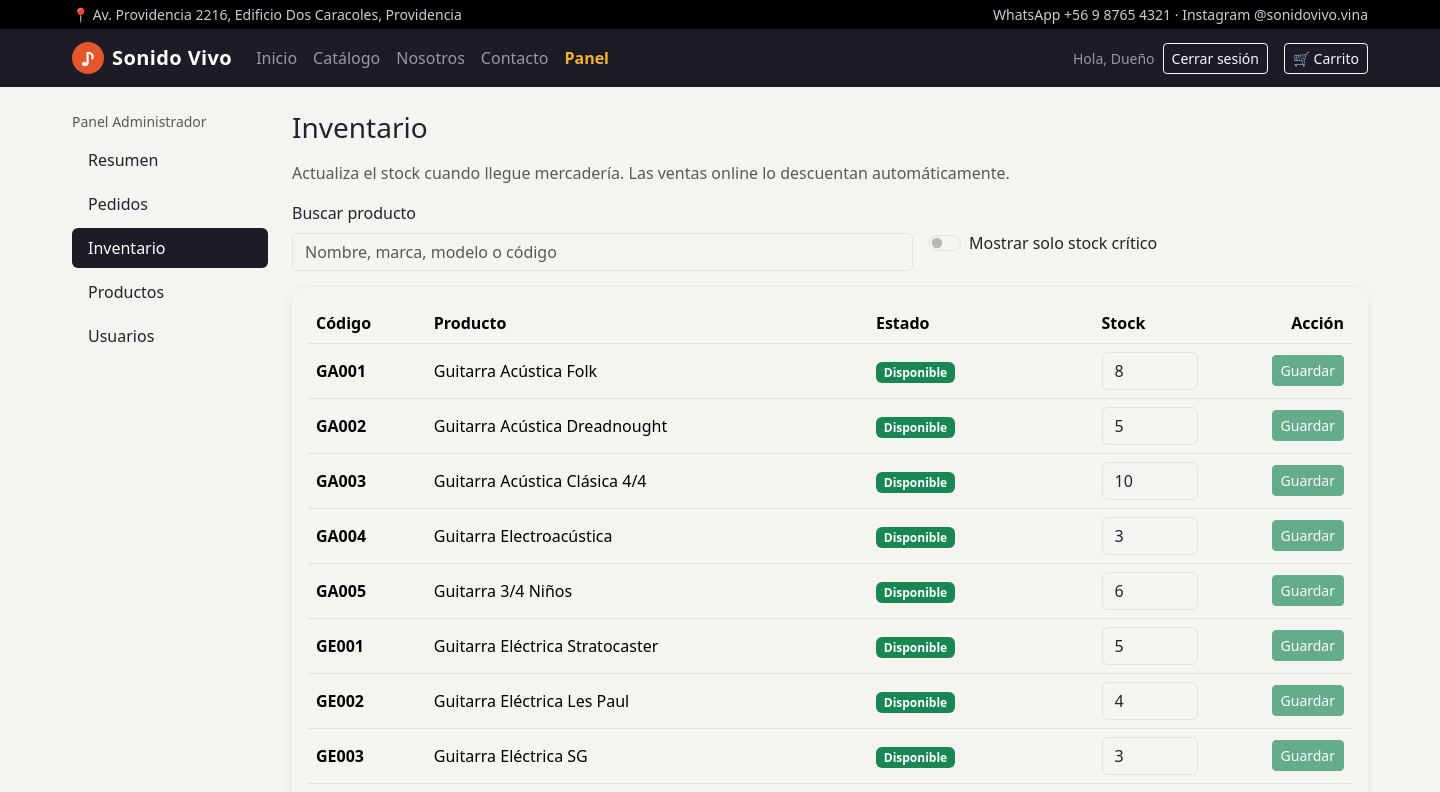
it: Panel de administración › Inventario: el interruptor muestra solo productos con stock crítico
Click the switch labelled "Mostrar solo stock crítico" at coordinates (945, 243), box [929,235,961,251]
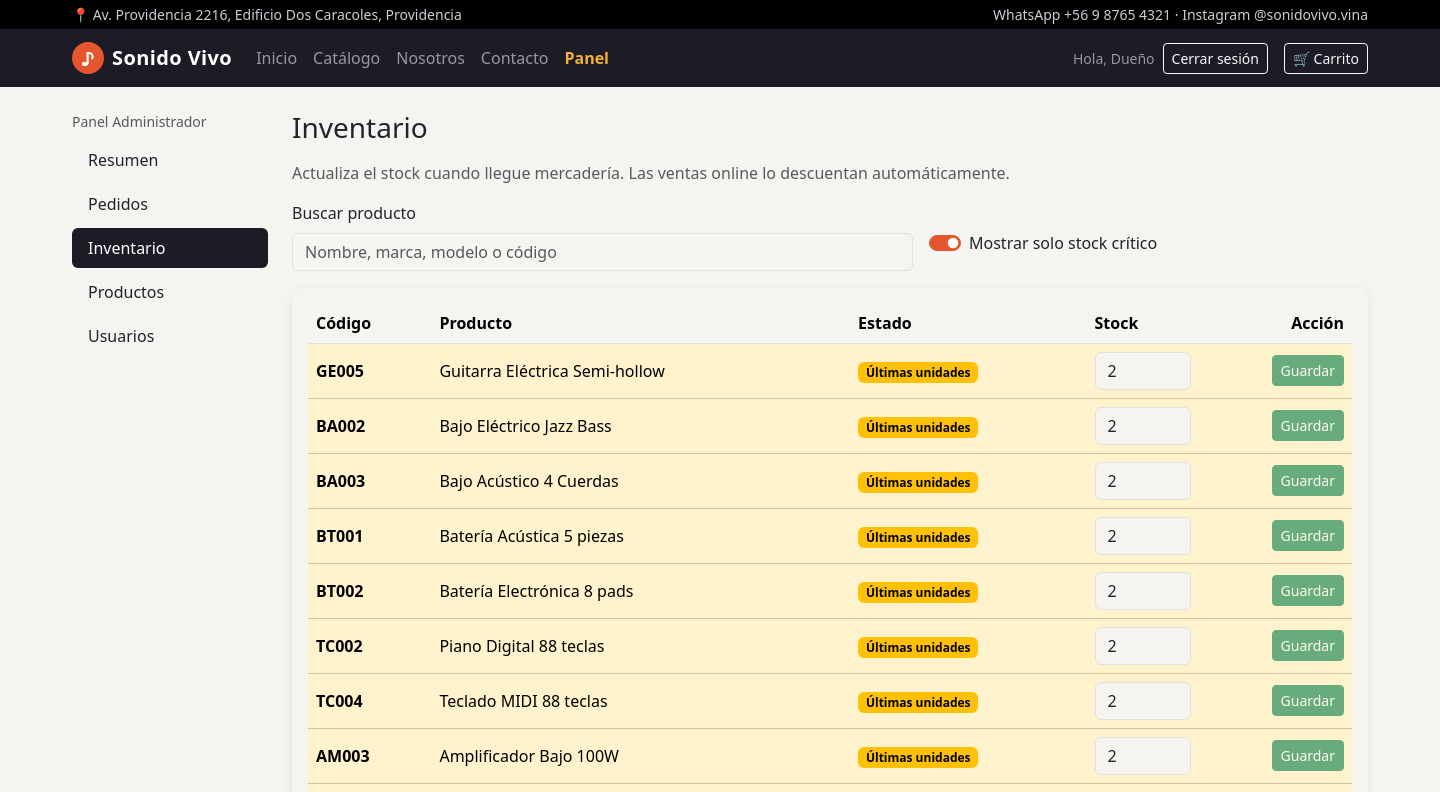
Expected: the number of rows is 12
